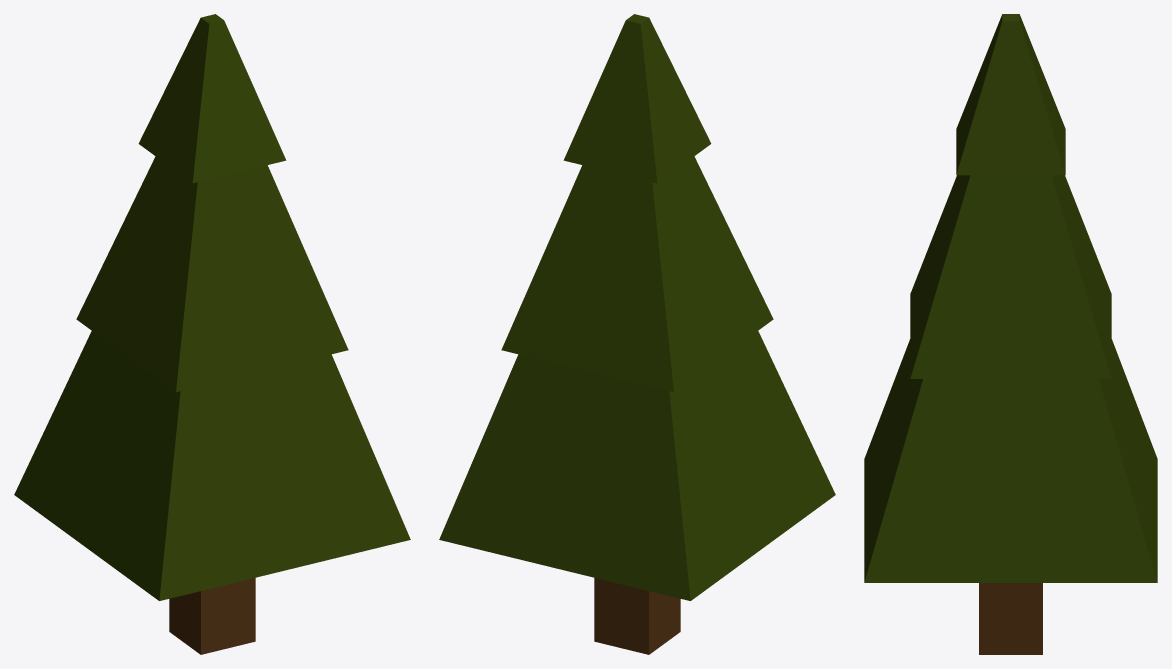
Rendered from ForestTreeSpruce_03.fbx.
3 views of the same model, side by side, from view 1: azimuth 30°, elevation 25°; view 2: azimuth 150°, elevation 25°; view 3: azimuth 270°, elevation 25° (orthographic).
Parts seen in each view (by area): view 1: ForestTreeSpruce_03; view 2: ForestTreeSpruce_03; view 3: ForestTreeSpruce_03.
Part boxes in pixels (x1,y1,x2,y2): ForestTreeSpruce_03: (14, 14, 410, 654); ForestTreeSpruce_03: (439, 14, 835, 654); ForestTreeSpruce_03: (864, 14, 1157, 654).
Size of the model in its own units: 33.33 by 78.22 by 33.33.
